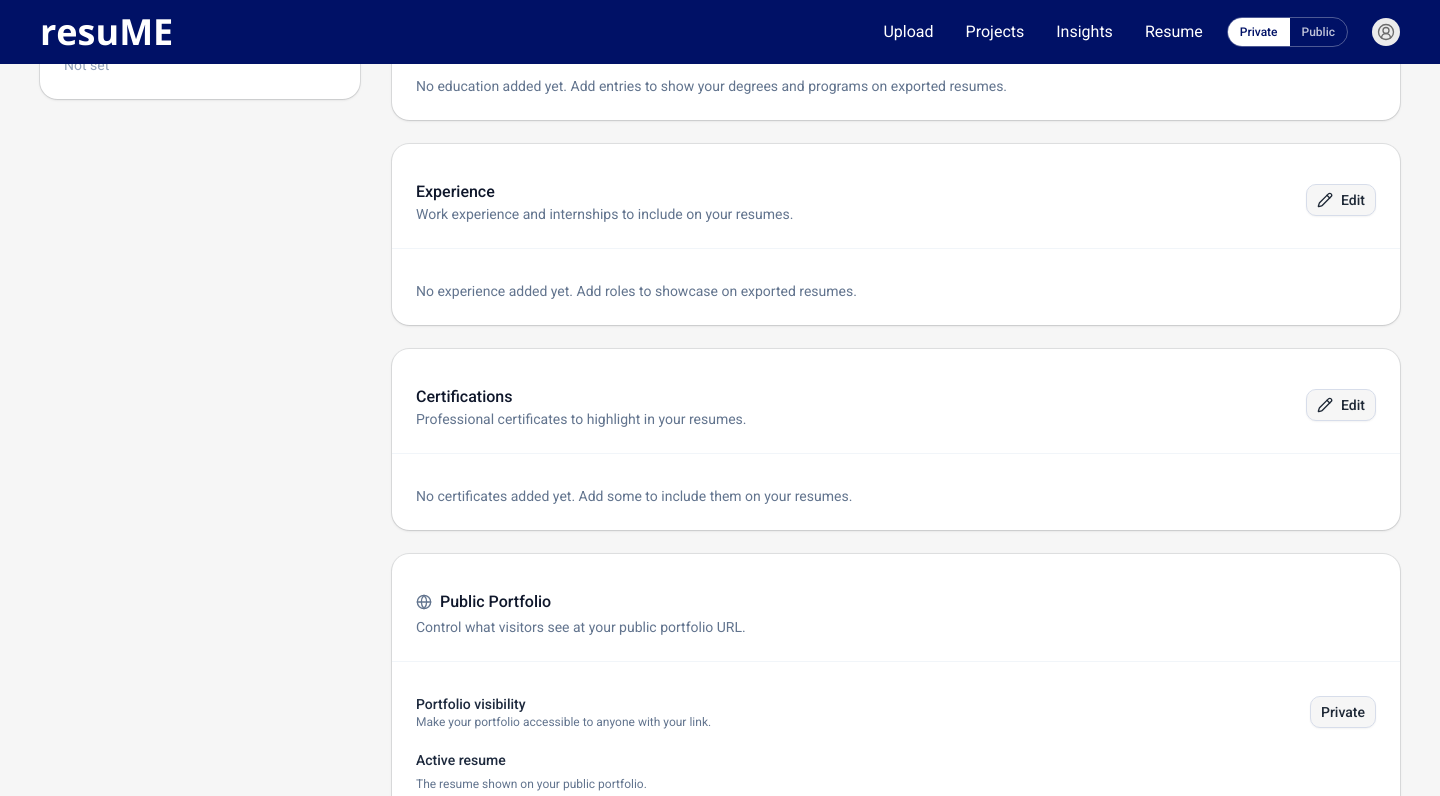
Test: ProfilePage › allows editing certifications and shows saved title
(page scrolled)
Click the button "Edit" in the row of "Certifications".
click(1341, 405)  # box [1306,389,1376,421]
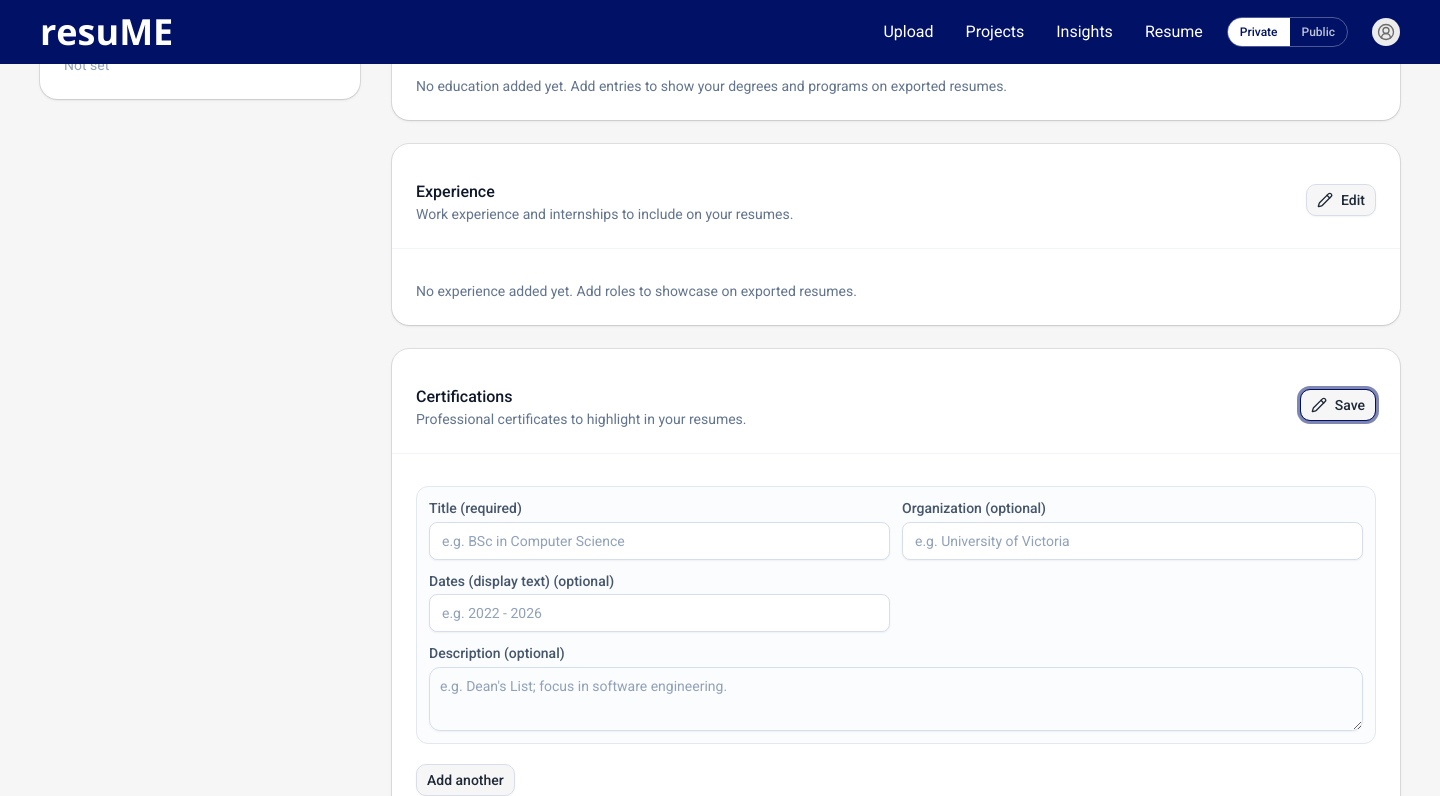
Type "AWS Cloud Practitioner" into the field with placeholder "e.g. BSc in Computer Science".
click(660, 541); type("AWS Cloud Practitioner")  # box [429,522,890,560]
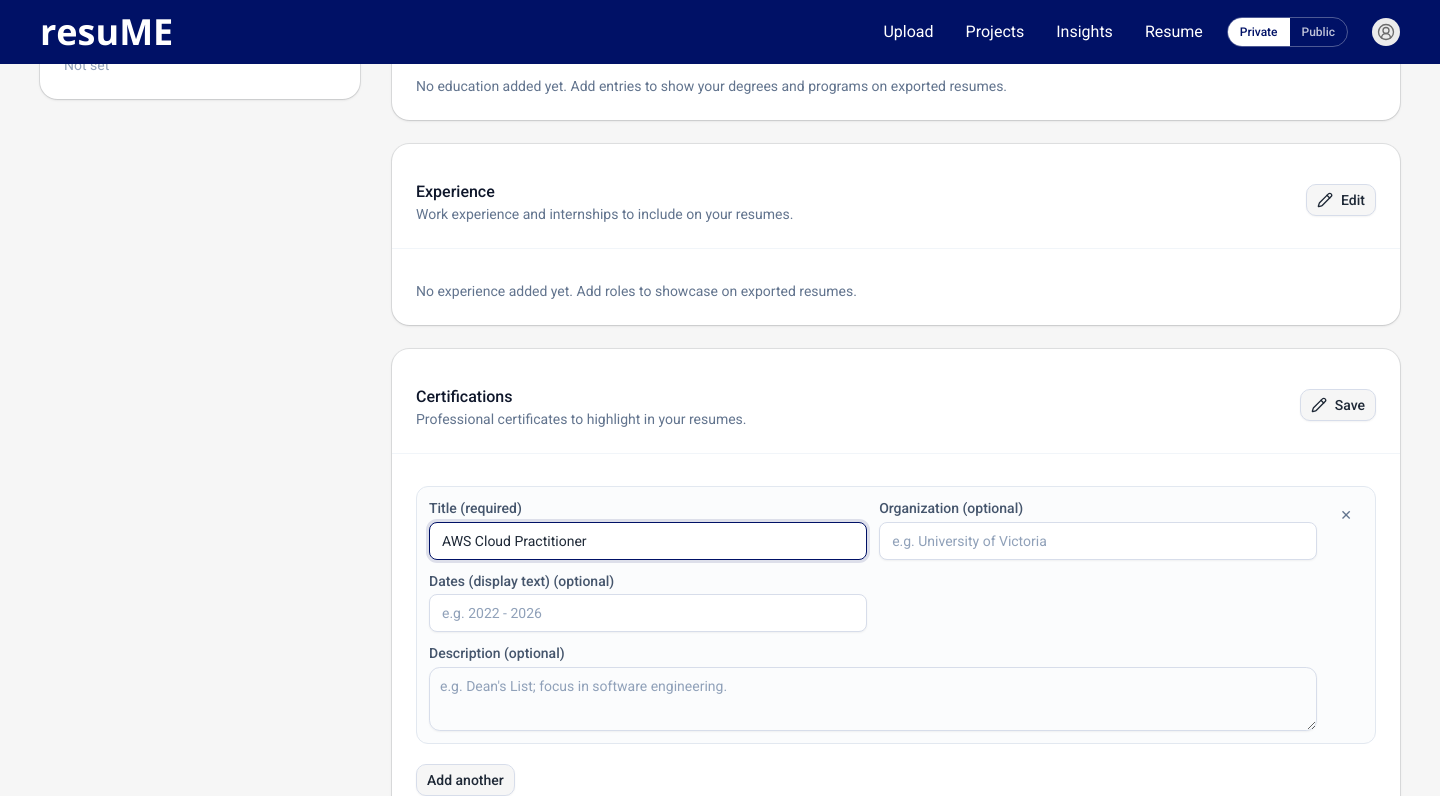
Click the button "Save".
click(1338, 405)  # box [1300,389,1376,421]
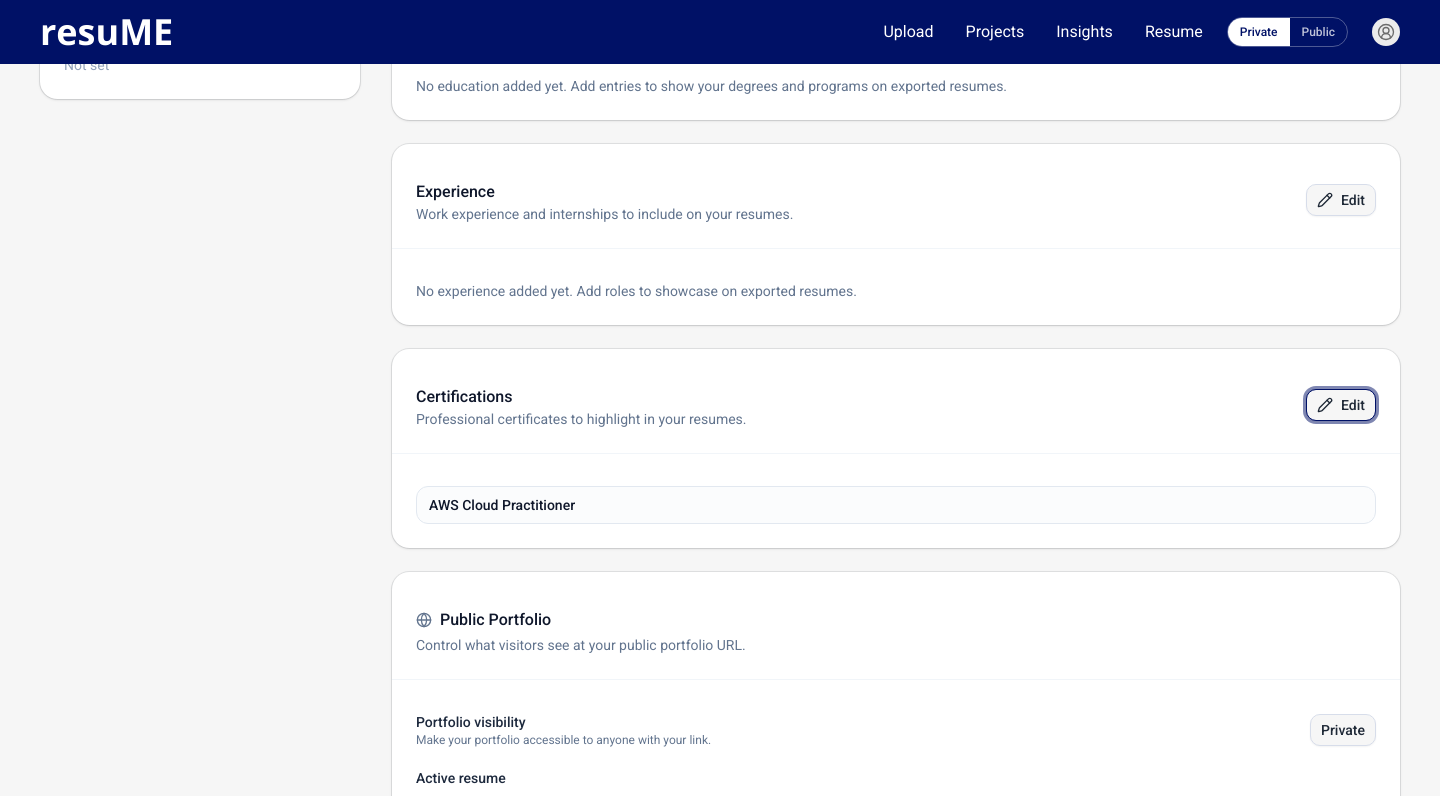
Now the text "AWS Cloud Practitioner" is shown, box [429,497,575,513]
